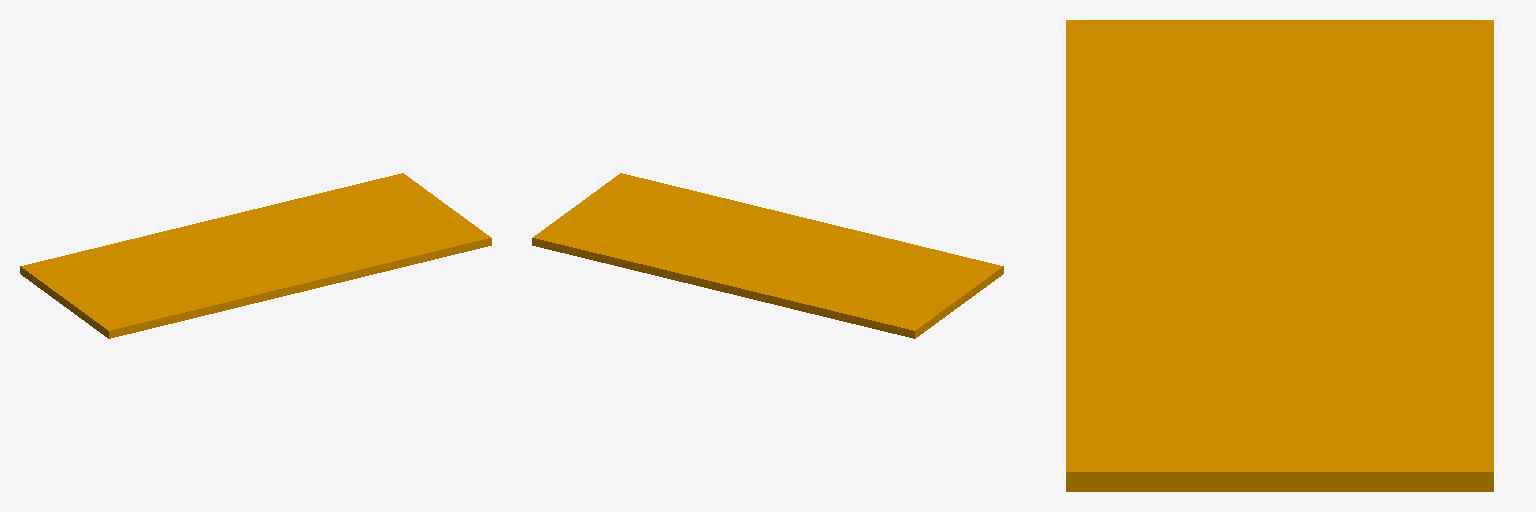
URDF robot description (pallet_rack):
<?xml version="1.0"?>
<robot name="pallet_rack">

  <link name="rack_base">
    
    <inertial>
      <mass value="0.5"/>
      <origin xyz="0 0 0" rpy="0 0 0"/>
      <inertia ixx="0.1" ixy="0.0" ixz="0.0" iyy="0.1" iyz="0.0" izz="0.1"/>
    </inertial>

    <visual><origin xyz="0 0 0" rpy="0 0 0"/><geometry><mesh filename="wally.dae"/></geometry></visual>
    <collision><origin xyz="0 0 0" rpy="0 0 0"/><geometry><mesh filename="wally.dae"/></geometry></collision>

  </link>
</robot>

--- Facts derived from the render (not from the file) ---
The picture shows the robot from 3 angles, left to right: view 1: azimuth 30°, elevation 25°; view 2: azimuth 150°, elevation 25°; view 3: azimuth 270°, elevation 25°; orthographic projection.
Model pallet_rack with 1 links and 0 joints (none), rooted at rack_base, posed every joint at zero.
Links seen in each view (by area): view 1: rack_base; view 2: rack_base; view 3: rack_base.
Boxes of the visible links, x1,y1,x2,y2 form: rack_base: [20, 173, 491, 338]; rack_base: [532, 173, 1003, 338]; rack_base: [1066, 20, 1493, 491].
Size in the robot's own frame: 10 by 4 by 0.2 metres.
1 mesh visuals loaded from 1 distinct referenced files (1 Collada DAE).
